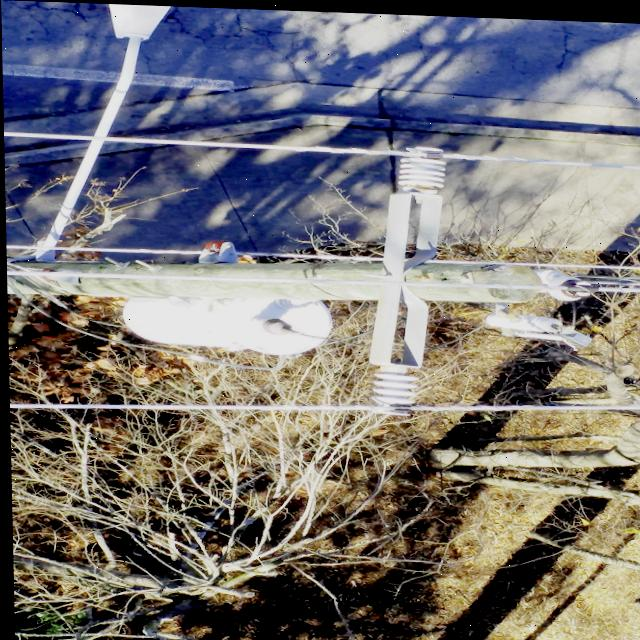poles: (12, 154, 640, 411)
wires: (3, 132, 640, 165), (7, 400, 640, 410)
